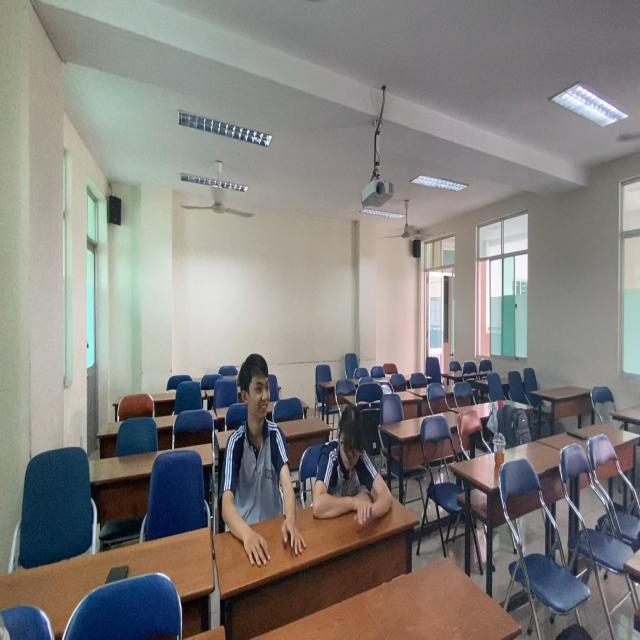sleep: (310, 409, 405, 536)
